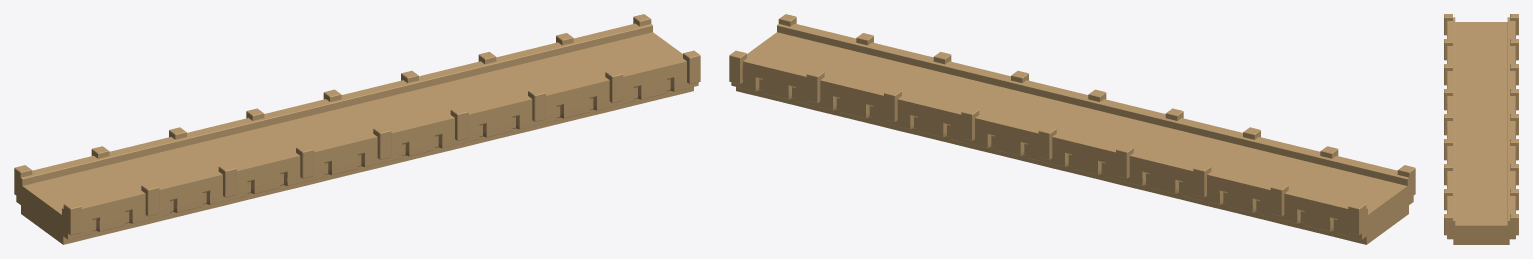
File: 2ndBridge_02.fbx
3 views of the same model, side by side, from view 1: azimuth 30°, elevation 25°; view 2: azimuth 150°, elevation 25°; view 3: azimuth 270°, elevation 25° (orthographic). The views are drawn at different scales.
Visible parts, largest first — view 1: Base.001; view 2: Base.001; view 3: Base.001.
Boxes of the visible parts, x1,y1,x2,y2 form: Base.001: (14,14,700,244); Base.001: (729,14,1415,244); Base.001: (1444,14,1518,244).
Bounding box in the file's own units: 6373 × 399 × 990.
